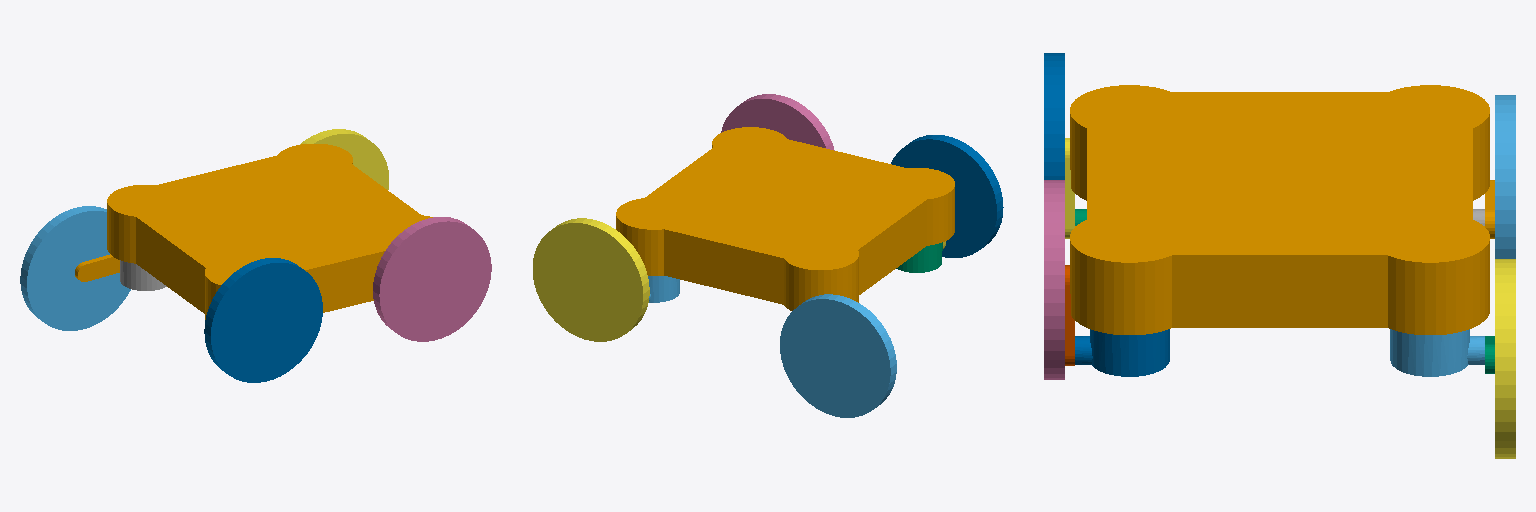
URDF robot description (generated_robot):
<?xml version='1.0' encoding='utf-8'?>
<robot name="generated_robot">
  <link name="chassis">
    <inertial>
      <origin xyz="0.0019047851 0 0.049093719" rpy="0 0 0" />
      <mass value="14.996783" />
      <inertia ixx="0.20788229" iyy="0.20788229" izz="0.39976801" ixy="0" ixz="0" iyz="0" />
    </inertial>
    <visual>
      <origin xyz="0 0.0090937195 0.0019047852" rpy="0 0 0" />
      <geometry>
        <mesh filename="meshes/part_001_solid_001.stl" scale="0.001 0.001 0.001" />
      </geometry>
    </visual>
    <collision>
      <origin xyz="0 0.0090937195 0.0019047852" rpy="0 0 0" />
      <geometry>
        <mesh filename="meshes/part_001_solid_001.stl" scale="0.001 0.001 0.001" />
      </geometry>
    </collision>
  </link>
  <link name="Steering_joint_LF">
    <inertial>
      <origin xyz="0.0016718354 -2.1252266e-06 -0.028065513" rpy="0 0 0" />
      <mass value="0.34155445" />
      <inertia ixx="0.00021820913" iyy="0.00024338632" izz="0.00028851634" ixy="1.0075139e-08" ixz="8.7417041e-06" iyz="-6.8412874e-09" />
    </inertial>
    <visual>
      <origin xyz="-0.14090628 0.15190479 -0.0071889343" rpy="0 0 -1.5707963" />
      <geometry>
        <mesh filename="meshes/part_002_solid_002.stl" scale="0.001 0.001 0.001" />
      </geometry>
    </visual>
    <collision>
      <origin xyz="-0.14090628 0.15190479 -0.0071889343" rpy="0 0 -1.5707963" />
      <geometry>
        <mesh filename="meshes/part_002_solid_002.stl" scale="0.001 0.001 0.001" />
      </geometry>
    </collision>
  </link>
  <link name="Posture_control_joint_LF">
    <inertial>
      <origin xyz="-0.035491101 -0.01210916 -0.013991309" rpy="0 0 0" />
      <mass value="0.035399978" />
      <inertia ixx="5.5443255e-06" iyy="2.6466394e-05" izz="3.142072e-05" ixy="-8.0788261e-06" ixz="0" iyz="0" />
    </inertial>
    <visual>
      <origin xyz="0.15190479 -0.037811066 0.18697595" rpy="-1.5707963 0 -3.1415927" />
      <geometry>
        <mesh filename="meshes/part_003_solid_003.stl" scale="0.001 0.001 0.001" />
      </geometry>
    </visual>
    <collision>
      <origin xyz="0.15190479 -0.037811066 0.18697595" rpy="-1.5707963 0 -3.1415927" />
      <geometry>
        <mesh filename="meshes/part_003_solid_003.stl" scale="0.001 0.001 0.001" />
      </geometry>
    </collision>
  </link>
  <link name="Wheel_joint_LF">
    <inertial>
      <origin xyz="1.2736975e-10 0 0.010000008" rpy="0 0 0" />
      <mass value="0.75153473" />
      <inertia ixx="0.0018977931" iyy="0.001897793" izz="0.0037454838" ixy="7.0324521e-12" ixz="0" iyz="0" />
    </inertial>
    <visual>
      <origin xyz="0.22288699 0.013592745 -0.20596725" rpy="1.5707963 0 -3.1415927" />
      <geometry>
        <mesh filename="meshes/part_004_solid_004.stl" scale="0.001 0.001 0.001" />
      </geometry>
    </visual>
    <collision>
      <origin xyz="0.22288699 0.013592745 -0.20596725" rpy="1.5707963 0 -3.1415927" />
      <geometry>
        <mesh filename="meshes/part_004_solid_004.stl" scale="0.001 0.001 0.001" />
      </geometry>
    </collision>
  </link>
  <link name="Steering_joint_RF">
    <inertial>
      <origin xyz="-0.0016718342 2.12478e-06 -0.028065513" rpy="0 0 0" />
      <mass value="0.34155445" />
      <inertia ixx="0.00021820913" iyy="0.00024338633" izz="0.00028851634" ixy="1.0077146e-08" ixz="-8.7417032e-06" iyz="6.8391143e-09" />
    </inertial>
    <visual>
      <origin xyz="0.15909372 0.15190479 -0.0071889343" rpy="0 0 -1.5707963" />
      <geometry>
        <mesh filename="meshes/part_007_solid_007.stl" scale="0.001 0.001 0.001" />
      </geometry>
    </visual>
    <collision>
      <origin xyz="0.15909372 0.15190479 -0.0071889343" rpy="0 0 -1.5707963" />
      <geometry>
        <mesh filename="meshes/part_007_solid_007.stl" scale="0.001 0.001 0.001" />
      </geometry>
    </collision>
  </link>
  <link name="Posture_control_joint_RF">
    <inertial>
      <origin xyz="0.0033361432 0.037351307 -7.573517e-09" rpy="0 0 0" />
      <mass value="0.035399976" />
      <inertia ixx="2.9013578e-05" iyy="2.9971416e-06" izz="3.142072e-05" ixy="-2.3424222e-06" ixz="0" iyz="0" />
    </inertial>
    <visual>
      <origin xyz="0.15190479 0.037811066 0.21915469" rpy="1.5707963 0 -3.1415927" />
      <geometry>
        <mesh filename="meshes/part_010_solid_010.stl" scale="0.001 0.001 0.001" />
      </geometry>
    </visual>
    <collision>
      <origin xyz="0.15190479 0.037811066 0.21915469" rpy="1.5707963 0 -3.1415927" />
      <geometry>
        <mesh filename="meshes/part_010_solid_010.stl" scale="0.001 0.001 0.001" />
      </geometry>
    </collision>
  </link>
  <link name="Wheel_joint_RF">
    <inertial>
      <origin xyz="-9.5305775e-10 -3.2682827e-10 0.010000008" rpy="0 0 0" />
      <mass value="0.75153475" />
      <inertia ixx="0.0018977931" iyy="0.0018977931" izz="0.003745484" ixy="-1.0776676e-11" ixz="0" iyz="0" />
    </inertial>
    <visual>
      <origin xyz="0.1452325 0.036891549 -0.22415469" rpy="-1.5707963 0 -3.1415927" />
      <geometry>
        <mesh filename="meshes/part_013_solid_013.stl" scale="0.001 0.001 0.001" />
      </geometry>
    </visual>
    <collision>
      <origin xyz="0.1452325 0.036891549 -0.22415469" rpy="-1.5707963 0 -3.1415927" />
      <geometry>
        <mesh filename="meshes/part_013_solid_013.stl" scale="0.001 0.001 0.001" />
      </geometry>
    </collision>
  </link>
  <link name="Steering_joint_LB">
    <inertial>
      <origin xyz="0.0016718342 -2.1248272e-06 -0.028065513" rpy="0 0 0" />
      <mass value="0.34155446" />
      <inertia ixx="0.00021820914" iyy="0.00024338633" izz="0.00028851635" ixy="1.0082123e-08" ixz="8.7417032e-06" iyz="-6.8391409e-09" />
    </inertial>
    <visual>
      <origin xyz="-0.14090628 -0.14809521 -0.0071889343" rpy="0 0 -1.5707963" />
      <geometry>
        <mesh filename="meshes/part_005_solid_005.stl" scale="0.001 0.001 0.001" />
      </geometry>
    </visual>
    <collision>
      <origin xyz="-0.14090628 -0.14809521 -0.0071889343" rpy="0 0 -1.5707963" />
      <geometry>
        <mesh filename="meshes/part_005_solid_005.stl" scale="0.001 0.001 0.001" />
      </geometry>
    </collision>
  </link>
  <link name="Posture_control_joint_LB">
    <inertial>
      <origin xyz="0.037472079 0.0014468008 -7.5886705e-09" rpy="0 0 0" />
      <mass value="0.03539998" />
      <inertia ixx="2.827271e-06" iyy="2.9183453e-05" izz="3.1420724e-05" ixy="-1.0191344e-06" ixz="0" iyz="0" />
    </inertial>
    <visual>
      <origin xyz="-0.14809521 -0.037811066 0.20096725" rpy="-1.5707963 0 -3.1415927" />
      <geometry>
        <mesh filename="meshes/part_008_solid_008.stl" scale="0.001 0.001 0.001" />
      </geometry>
    </visual>
    <collision>
      <origin xyz="-0.14809521 -0.037811066 0.20096725" rpy="-1.5707963 0 -3.1415927" />
      <geometry>
        <mesh filename="meshes/part_008_solid_008.stl" scale="0.001 0.001 0.001" />
      </geometry>
    </collision>
  </link>
  <link name="Wheel_joint_LB">
    <inertial>
      <origin xyz="0 4.5386143e-10 0.010000008" rpy="0 0 0" />
      <mass value="0.75153474" />
      <inertia ixx="0.0018977931" iyy="0.0018977931" izz="0.0037454838" ixy="-4.7824239e-11" ixz="0" iyz="0" />
    </inertial>
    <visual>
      <origin xyz="-0.22303937 0.040704668 -0.20596725" rpy="1.5707963 0 -3.1415927" />
      <geometry>
        <mesh filename="meshes/part_011_solid_011.stl" scale="0.001 0.001 0.001" />
      </geometry>
    </visual>
    <collision>
      <origin xyz="-0.22303937 0.040704668 -0.20596725" rpy="1.5707963 0 -3.1415927" />
      <geometry>
        <mesh filename="meshes/part_011_solid_011.stl" scale="0.001 0.001 0.001" />
      </geometry>
    </collision>
  </link>
  <link name="Steering_joint_RB">
    <inertial>
      <origin xyz="-0.0016718354 2.1246811e-06 -0.028065513" rpy="0 0 0" />
      <mass value="0.34155445" />
      <inertia ixx="0.00021820913" iyy="0.00024338633" izz="0.00028851634" ixy="1.0075471e-08" ixz="-8.7417034e-06" iyz="6.8422165e-09" />
    </inertial>
    <visual>
      <origin xyz="0.15909372 -0.14809521 -0.0071889343" rpy="0 0 -1.5707963" />
      <geometry>
        <mesh filename="meshes/part_006_solid_006.stl" scale="0.001 0.001 0.001" />
      </geometry>
    </visual>
    <collision>
      <origin xyz="0.15909372 -0.14809521 -0.0071889343" rpy="0 0 -1.5707963" />
      <geometry>
        <mesh filename="meshes/part_006_solid_006.stl" scale="0.001 0.001 0.001" />
      </geometry>
    </collision>
  </link>
  <link name="Posture_control_joint_RB">
    <inertial>
      <origin xyz="0.0035230026 0.037334146 -7.5735161e-09" rpy="0 0 0" />
      <mass value="0.035399973" />
      <inertia ixx="2.8989484e-05" iyy="3.0212345e-06" izz="3.1420719e-05" ixy="-2.4724869e-06" ixz="0" iyz="0" />
    </inertial>
    <visual>
      <origin xyz="-0.14809521 0.037811066 0.21915469" rpy="1.5707963 0 -3.1415927" />
      <geometry>
        <mesh filename="meshes/part_009_solid_009.stl" scale="0.001 0.001 0.001" />
      </geometry>
    </visual>
    <collision>
      <origin xyz="-0.14809521 0.037811066 0.21915469" rpy="1.5707963 0 -3.1415927" />
      <geometry>
        <mesh filename="meshes/part_009_solid_009.stl" scale="0.001 0.001 0.001" />
      </geometry>
    </collision>
  </link>
  <link name="Wheel_joint_RB">
    <inertial>
      <origin xyz="-1.2465447e-09 -5.7382597e-10 0.010000008" rpy="0 0 0" />
      <mass value="0.75153475" />
      <inertia ixx="0.0018977932" iyy="0.0018977931" izz="0.003745484" ixy="-3.1164684e-11" ixz="0" iyz="0" />
    </inertial>
    <visual>
      <origin xyz="-0.15514122 0.036857226 -0.22415469" rpy="-1.5707963 0 -3.1415927" />
      <geometry>
        <mesh filename="meshes/part_012_solid_012.stl" scale="0.001 0.001 0.001" />
      </geometry>
    </visual>
    <collision>
      <origin xyz="-0.15514122 0.036857226 -0.22415469" rpy="-1.5707963 0 -3.1415927" />
      <geometry>
        <mesh filename="meshes/part_012_solid_012.stl" scale="0.001 0.001 0.001" />
      </geometry>
    </collision>
  </link>
  <joint name="Steering_joint_LF" type="revolute">
    <origin xyz="0.15190479 0.15 0.0090937195" rpy="0 0 1.5707963" />
    <parent link="chassis" />
    <child link="Steering_joint_LF" />
    <axis xyz="0 0 1" />
    <limit lower="-0.78" upper="0" effort="10" velocity="5" />
  </joint>
  <joint name="Posture_control_joint_LF" type="continuous">
    <origin xyz="0.046069665 0 -0.045" rpy="-1.5707963 0 1.5707963" />
    <parent link="Steering_joint_LF" />
    <child link="Posture_control_joint_LF" />
    <axis xyz="0 0 1" />
    <limit effort="10" velocity="5" />
  </joint>
  <joint name="Wheel_joint_LF" type="continuous">
    <origin xyz="-0.070982202 -0.02421832 -0.018991302" rpy="3.1415927 0 0" />
    <parent link="Posture_control_joint_LF" />
    <child link="Wheel_joint_LF" />
    <axis xyz="0 0 1" />
    <limit effort="10" velocity="5" />
  </joint>
  <joint name="Steering_joint_RF" type="revolute">
    <origin xyz="0.15190479 -0.15 0.0090937195" rpy="0 0 1.5707963" />
    <parent link="chassis" />
    <child link="Steering_joint_RF" />
    <axis xyz="0 0 1" />
    <limit lower="0" upper="0.78" effort="10" velocity="5" />
  </joint>
  <joint name="Posture_control_joint_RF" type="continuous">
    <origin xyz="-0.060060967 0 -0.045" rpy="1.5707963 0 1.5707963" />
    <parent link="Steering_joint_RF" />
    <child link="Posture_control_joint_RF" />
    <axis xyz="0 0 1" />
    <limit effort="10" velocity="5" />
  </joint>
  <joint name="Wheel_joint_RF" type="continuous">
    <origin xyz="0.0066722838 0.074702615 -0.005" rpy="-3.1415927 0 0" />
    <parent link="Posture_control_joint_RF" />
    <child link="Wheel_joint_RF" />
    <axis xyz="0 0 1" />
    <limit effort="10" velocity="5" />
  </joint>
  <joint name="Steering_joint_LB" type="revolute">
    <origin xyz="-0.14809521 0.15 0.0090937195" rpy="0 0 1.5707963" />
    <parent link="chassis" />
    <child link="Steering_joint_LB" />
    <axis xyz="0 0 1" />
    <limit lower="0" upper="0.78" effort="10" velocity="5" />
  </joint>
  <joint name="Posture_control_joint_LB" type="continuous">
    <origin xyz="0.060060967 0 -0.045" rpy="-1.5707963 0 1.5707963" />
    <parent link="Steering_joint_LB" />
    <child link="Posture_control_joint_LB" />
    <axis xyz="0 0 1" />
    <limit effort="10" velocity="5" />
  </joint>
  <joint name="Wheel_joint_LB" type="continuous">
    <origin xyz="0.07494416 0.0028936022 -0.005" rpy="3.1415927 0 0" />
    <parent link="Posture_control_joint_LB" />
    <child link="Wheel_joint_LB" />
    <axis xyz="0 0 1" />
    <limit effort="10" velocity="5" />
  </joint>
  <joint name="Steering_joint_RB" type="revolute">
    <origin xyz="-0.14809521 -0.15 0.0090937195" rpy="0 0 1.5707963" />
    <parent link="chassis" />
    <child link="Steering_joint_RB" />
    <axis xyz="0 0 1" />
    <limit lower="-0.76" upper="0" effort="10" velocity="5" />
  </joint>
  <joint name="Posture_control_joint_RB" type="continuous">
    <origin xyz="-0.060060967 0 -0.045" rpy="1.5707963 0 1.5707963" />
    <parent link="Steering_joint_RB" />
    <child link="Posture_control_joint_RB" />
    <axis xyz="0 0 1" />
    <limit effort="10" velocity="5" />
  </joint>
  <joint name="Wheel_joint_RB" type="continuous">
    <origin xyz="0.0070460026 0.074668292 -0.005" rpy="-3.1415927 0 0" />
    <parent link="Posture_control_joint_RB" />
    <child link="Wheel_joint_RB" />
    <axis xyz="0 0 1" />
    <limit effort="10" velocity="5" />
  </joint>
</robot>

--- Render facts (derived) ---
3 views of the same robot in one strip: view 1: azimuth 30°, elevation 25°; view 2: azimuth 150°, elevation 25°; view 3: azimuth 270°, elevation 25° (orthographic).
Robot: generated_robot — 13 links, 12 joints (4 revolute, 8 continuous); root link chassis; default pose: every joint at zero.
Links seen in each view (by area): view 1: chassis, Wheel_joint_RF, Wheel_joint_RB, Wheel_joint_LB, Wheel_joint_LF, Steering_joint_LB, Posture_control_joint_LB; view 2: chassis, Wheel_joint_LB, Wheel_joint_LF, Wheel_joint_RB, Wheel_joint_RF, Steering_joint_RB, Steering_joint_LF; view 3: chassis, Wheel_joint_LF, Wheel_joint_RF, Steering_joint_RF, Steering_joint_LF, Wheel_joint_LB, Wheel_joint_RB, Posture_control_joint_RF, Posture_control_joint_RB.
Link boxes in pixels (x1,y1,x2,y2): chassis: (107, 144, 432, 319); Wheel_joint_RF: (373, 217, 491, 341); Wheel_joint_RB: (204, 258, 322, 382); Wheel_joint_LB: (20, 206, 130, 330); Wheel_joint_LF: (300, 129, 388, 189); Steering_joint_LB: (120, 260, 166, 290); Posture_control_joint_LB: (75, 254, 119, 281); chassis: (616, 127, 954, 310); Wheel_joint_LB: (780, 294, 896, 417); Wheel_joint_LF: (533, 218, 649, 341); Wheel_joint_RB: (891, 135, 1003, 257); Wheel_joint_RF: (721, 94, 834, 150); Steering_joint_RB: (896, 242, 942, 272); Steering_joint_LF: (648, 276, 679, 302); chassis: (1070, 85, 1489, 334); Wheel_joint_LF: (1495, 259, 1515, 458); Wheel_joint_RF: (1044, 180, 1064, 379); Steering_joint_RF: (1075, 329, 1169, 376); Steering_joint_LF: (1390, 329, 1484, 376); Wheel_joint_LB: (1495, 95, 1515, 258); Wheel_joint_RB: (1044, 53, 1064, 179); Posture_control_joint_RF: (1065, 265, 1074, 365); Posture_control_joint_RB: (1065, 138, 1074, 238).
Bounding box of the posed robot: 0.6456 × 0.4701 × 0.2775 m (x, y, z).
Meshes: 13 distinct files referenced, 13 mesh visuals loaded (13 binary STL).
